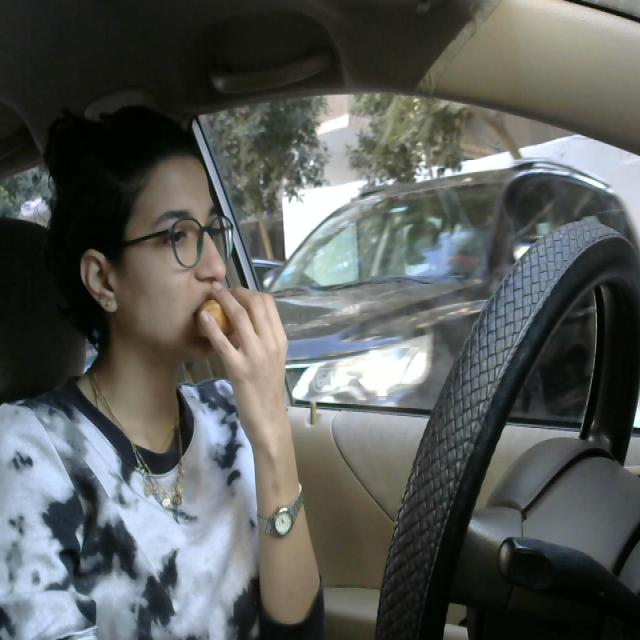eating: (184, 278, 264, 368)
